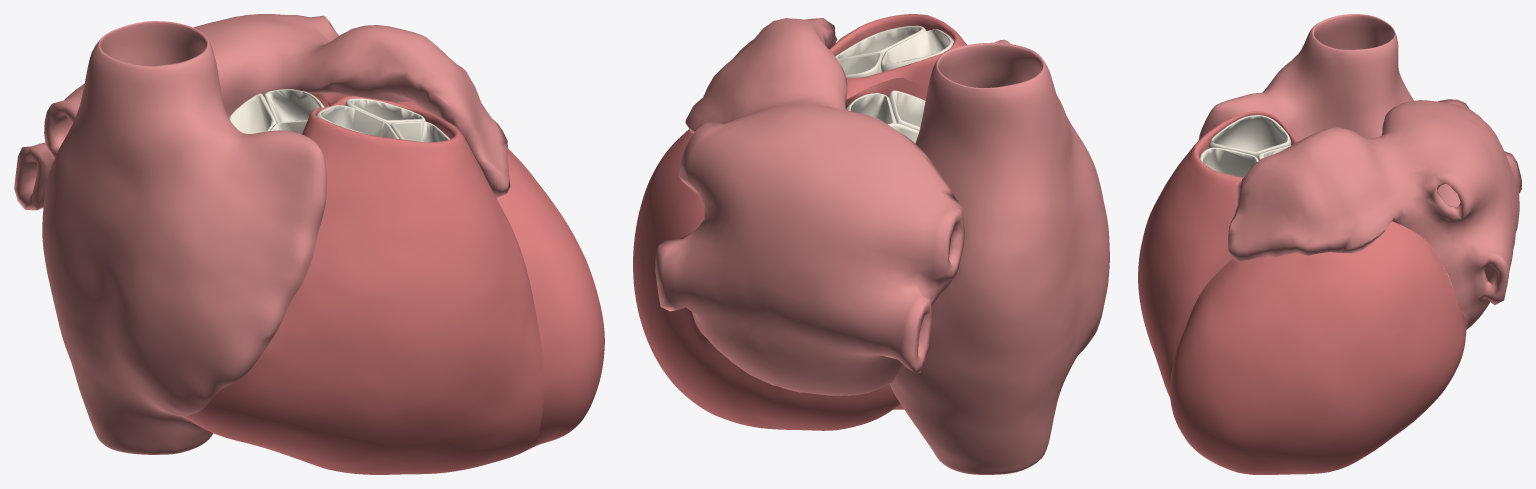
The model's file is heart.glb.
The picture shows the model from 3 angles, left to right: view 1: azimuth 30°, elevation 25°; view 2: azimuth 150°, elevation 25°; view 3: azimuth 270°, elevation 25°; orthographic projection. The views are drawn at different scales.
Visible parts, largest first — view 1: Right atrium.001, Right ventricle.001, Left atrium.001, Left ventricle.001, Left coronary leaflet.001, Right semilunar leaflet of pulmonary valve.001, Non-coronary leaflet.001, Left semilunar leaflet of pulmonary valve.001, Anterior semilunar leaflet of pulmonary valve.001; view 2: Left atrium.001, Right atrium.001, Left ventricle.001, Right ventricle.001, Right semilunar leaflet of pulmonary valve.001, Anterior semilunar leaflet of pulmonary valve.001, Right coronary leaflet.001, Left coronary leaflet.001, Left semilunar leaflet of pulmonary valve.001; view 3: Left ventricle.001, Left atrium.001, Right atrium.001, Right ventricle.001, Right semilunar leaflet of pulmonary valve.001, Anterior semilunar leaflet of pulmonary valve.001.
Part boxes in pixels (box(x1,y1,x2,y2)): Right atrium.001: box(42, 21, 326, 454); Right ventricle.001: box(184, 93, 544, 474); Left atrium.001: box(14, 14, 510, 210); Left ventricle.001: box(311, 94, 604, 446); Left coronary leaflet.001: box(264, 89, 324, 123); Right semilunar leaflet of pulmonary valve.001: box(316, 105, 398, 138); Non-coronary leaflet.001: box(229, 93, 276, 133); Left semilunar leaflet of pulmonary valve.001: box(345, 98, 425, 125); Anterior semilunar leaflet of pulmonary valve.001: box(390, 121, 449, 142); Left atrium.001: box(655, 18, 964, 395); Right atrium.001: box(889, 39, 1109, 474); Left ventricle.001: box(633, 77, 927, 430); Right ventricle.001: box(829, 14, 966, 409); Right semilunar leaflet of pulmonary valve.001: box(881, 29, 954, 71); Anterior semilunar leaflet of pulmonary valve.001: box(835, 25, 926, 59); Right coronary leaflet.001: box(888, 90, 925, 130); Left coronary leaflet.001: box(846, 93, 896, 124); Left semilunar leaflet of pulmonary valve.001: box(837, 52, 883, 77); Left ventricle.001: box(1170, 221, 1467, 474); Left atrium.001: box(1228, 99, 1521, 329); Right atrium.001: box(1198, 14, 1413, 221); Right ventricle.001: box(1138, 111, 1299, 397); Right semilunar leaflet of pulmonary valve.001: box(1209, 115, 1291, 159); Anterior semilunar leaflet of pulmonary valve.001: box(1200, 147, 1258, 177).
Bounding box in the file's own units: 2.6 × 2.36 × 2.46.
